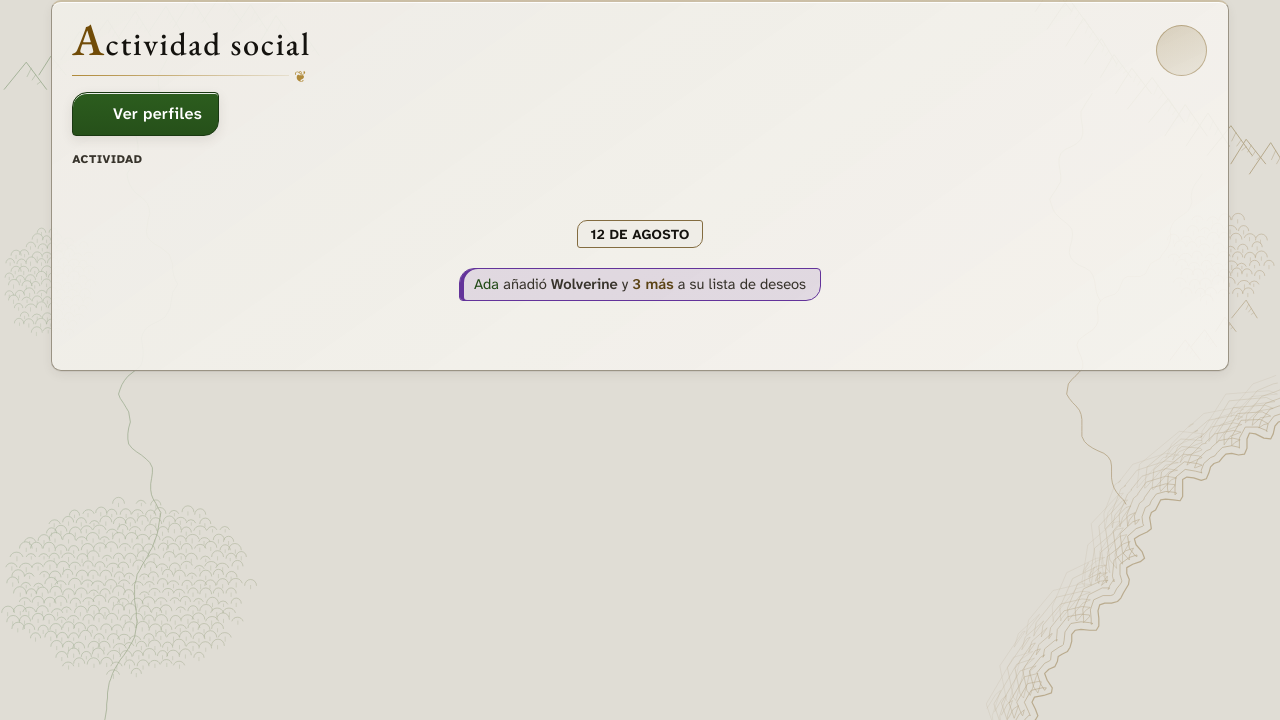
Test: renglón agrupado: varios juegos a la misma lista el mismo día › cerrado de entrada; al pulsar la cifra, el resto aparece debajo, y al volver a pulsarla se oculta
Expected: the text "Hades" is not shown
Click the button "3 más" at x=653, y=284, box [632,274,674,294]
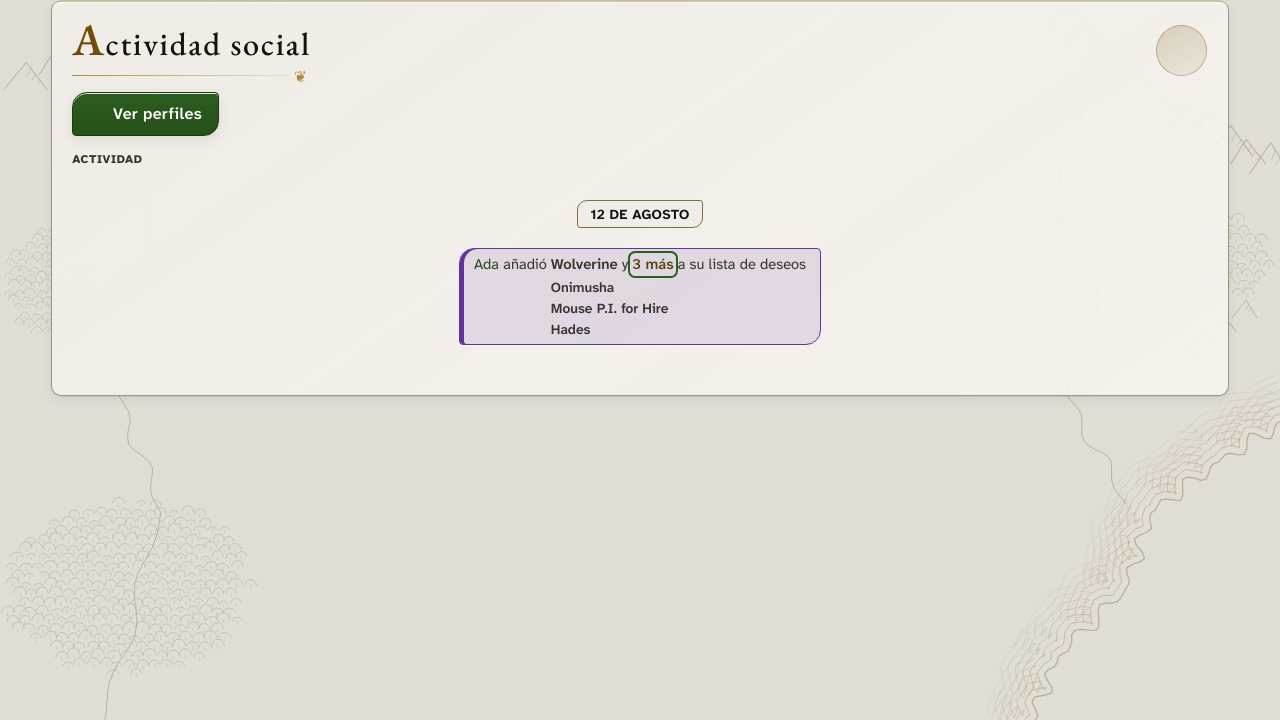
Result: the text "Onimusha" is shown at [551,278,614,296]
Result: the text "Mouse P.I. for Hire" is shown at [551,299,668,317]
Result: the text "Hades" is shown at [551,320,590,338]
Click the button "3 más" at x=653, y=265, box [632,255,674,274]
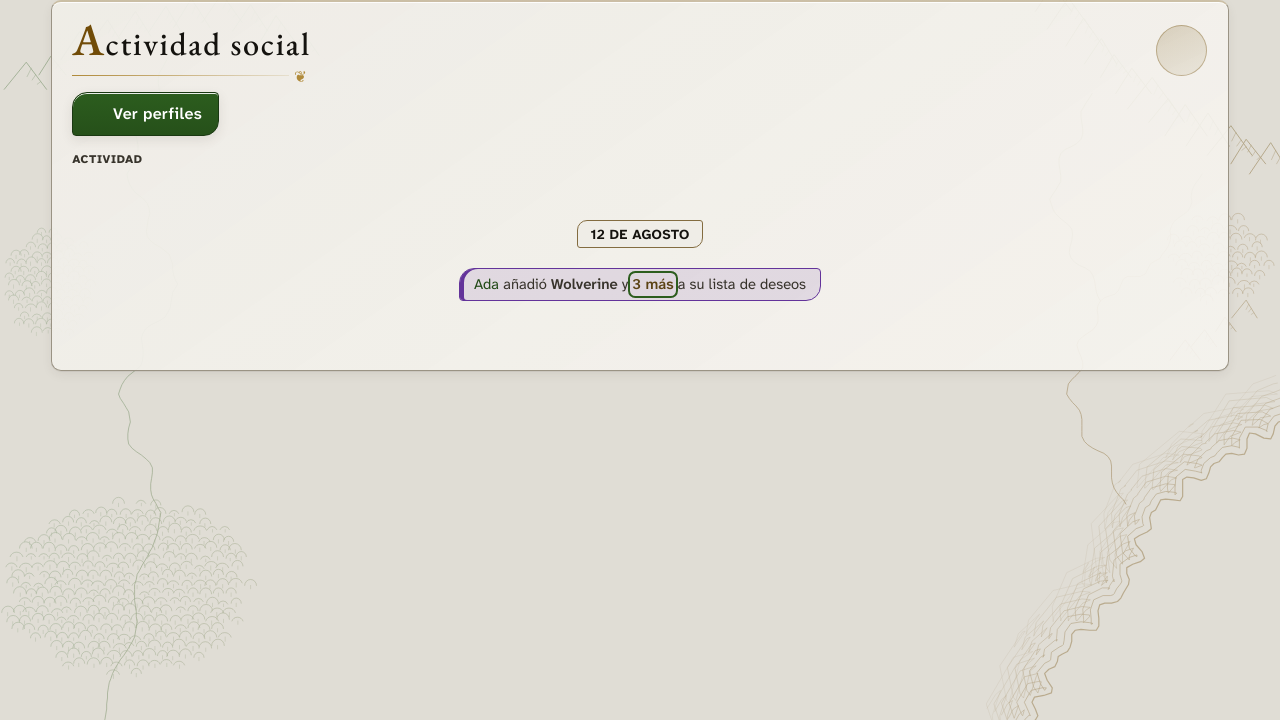
Result: the text "Hades" is gone
